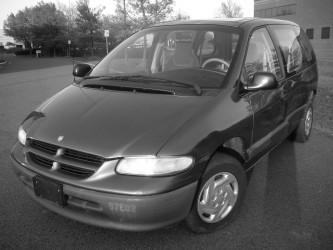car: (13, 19, 318, 235)
